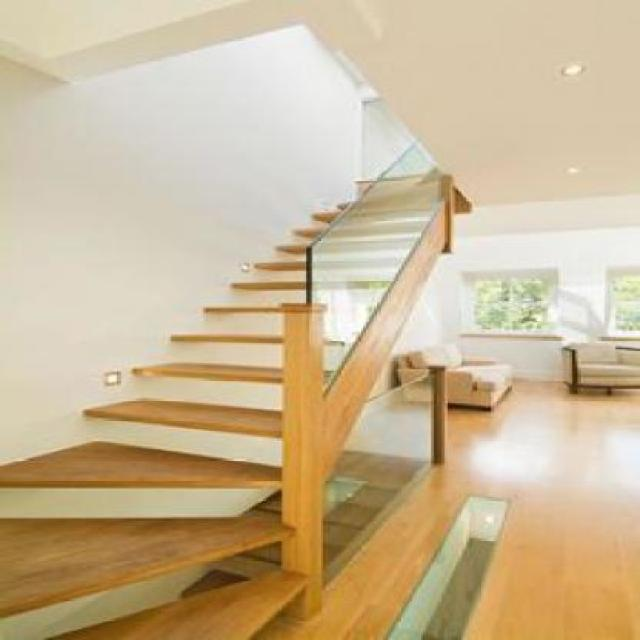stair: (3, 126, 540, 637)
